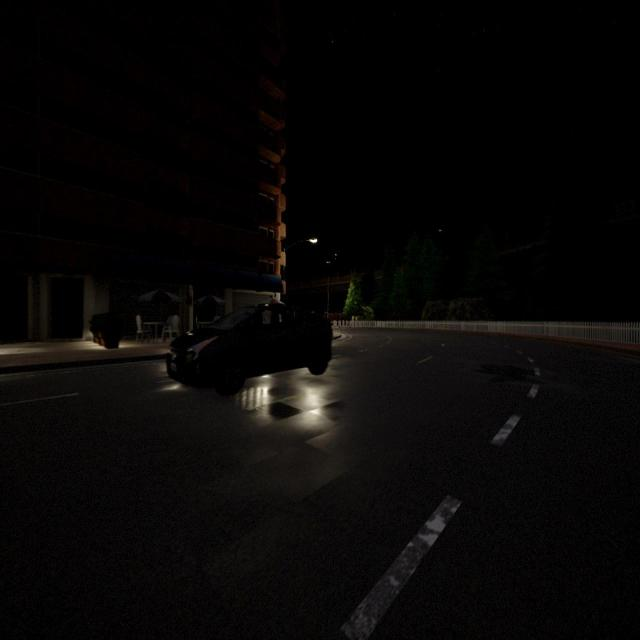Vehicle: (166, 300, 332, 394)
